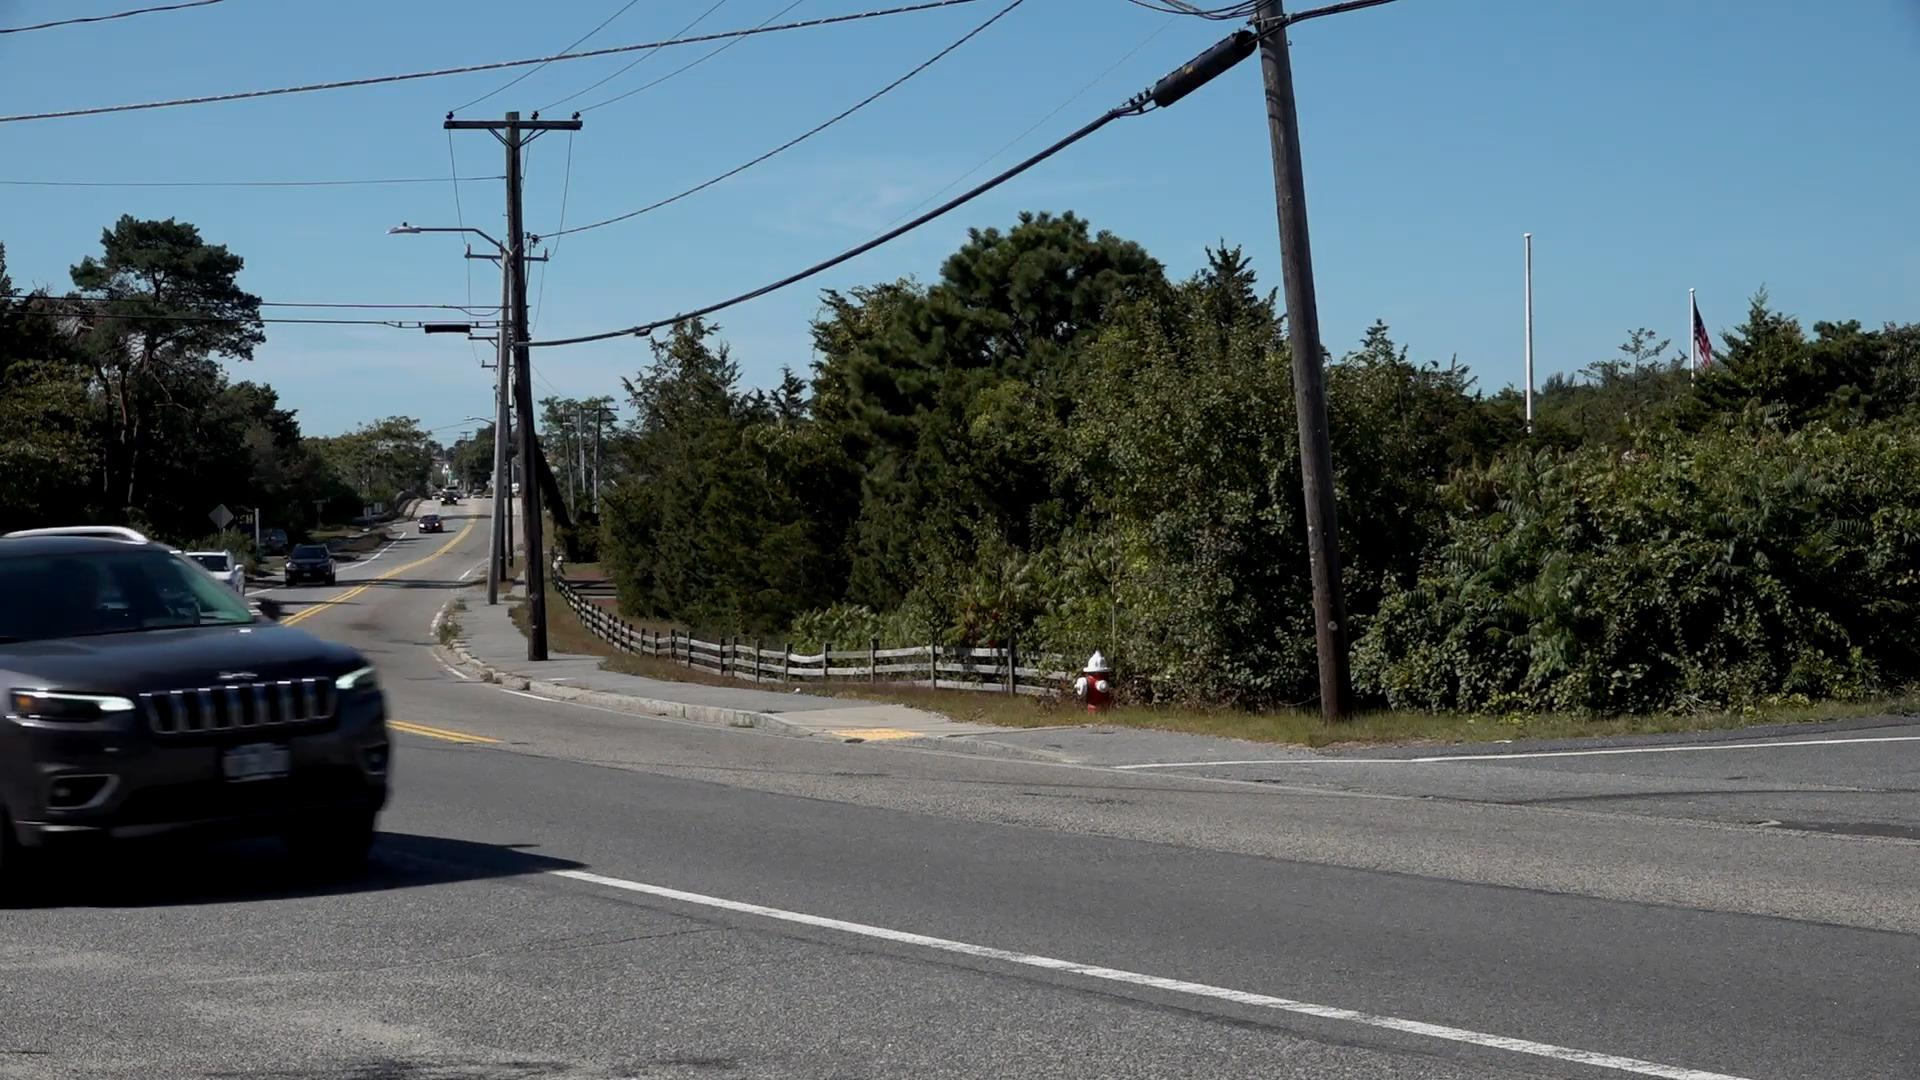suv: (1, 533, 387, 901)
